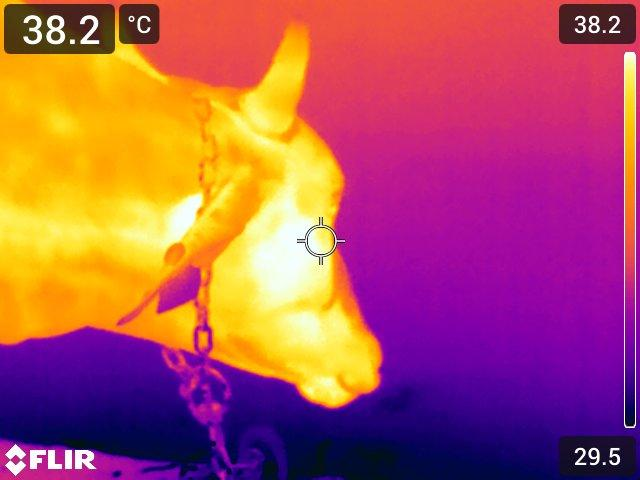ear: (120, 171, 262, 325)
